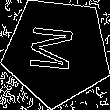M_E: (30, 26, 84, 77)
